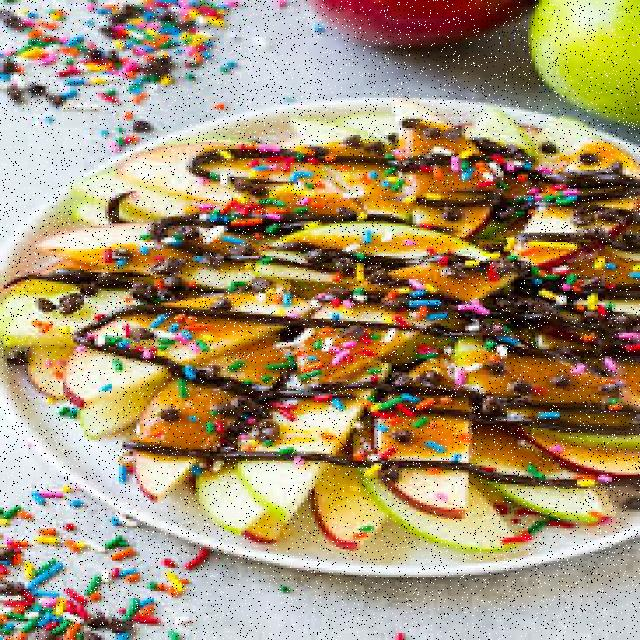Apple: (526, 4, 640, 121), (311, 2, 532, 46)
